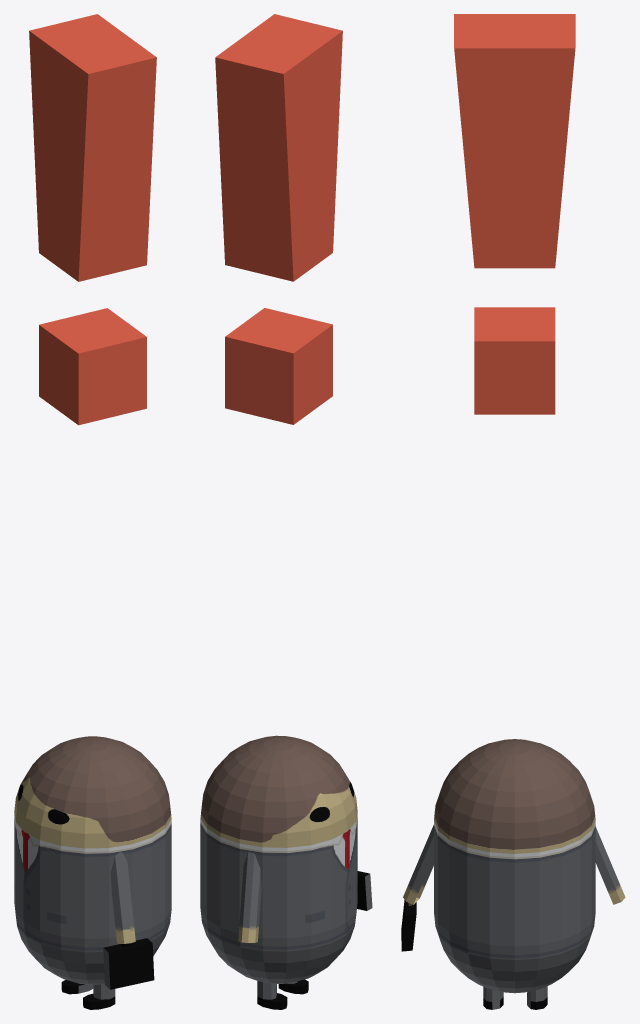
Rendered from personnage_O.glb.
3 views of the same model, side by side, from view 1: azimuth 30°, elevation 25°; view 2: azimuth 150°, elevation 25°; view 3: azimuth 270°, elevation 25° (orthographic). The views are drawn at different scales.
Visible parts, largest first — view 1: Cube, Sphère; view 2: Cube, Sphère; view 3: Sphère, Cube.
Boxes of the visible parts, x1=… form: Cube: x1=29, y1=14, x2=156, y2=425; Sphère: x1=14, y1=736, x2=171, y2=1009; Cube: x1=215, y1=14, x2=342, y2=424; Sphère: x1=200, y1=735, x2=372, y2=1009; Sphère: x1=401, y1=739, x2=625, y2=1009; Cube: x1=454, y1=14, x2=575, y2=414.
Size of the model in its own units: 1 by 6.64 by 1.39.
2 materials, 2 textured.
